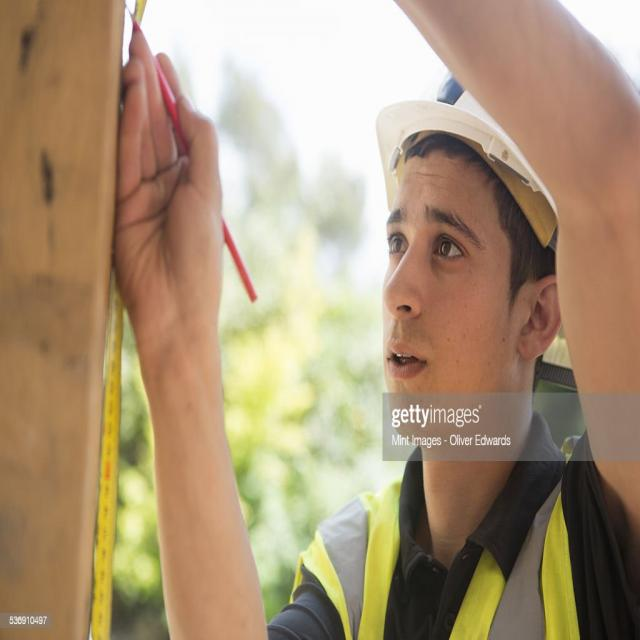Reflective-Jacket: (306, 464, 586, 640)
Safety-Helmet: (371, 67, 573, 256)
